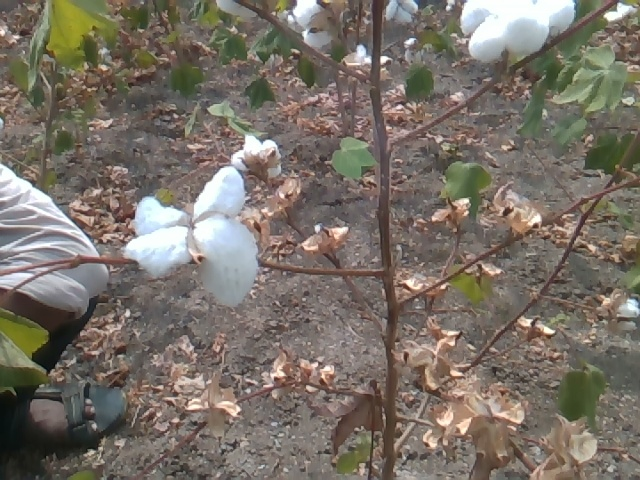cotton: (195, 166, 258, 305), (461, 1, 574, 64), (127, 198, 192, 275), (294, 1, 337, 49), (387, 1, 418, 25)
